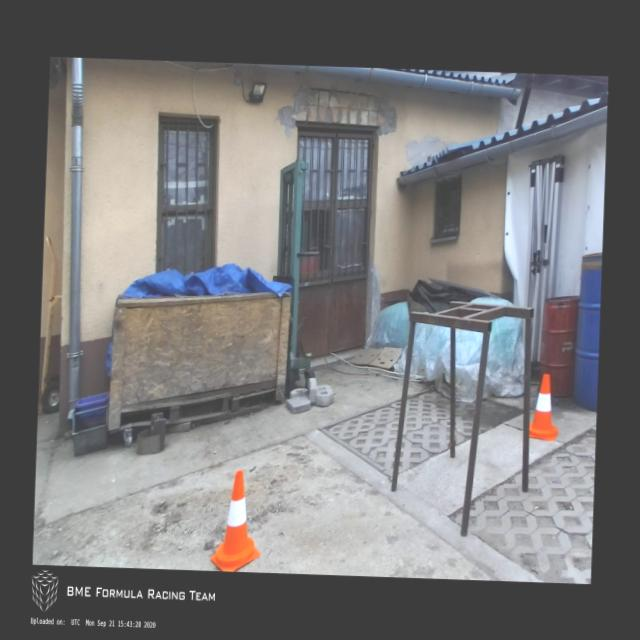orange_cone: (209, 468, 263, 572), (528, 373, 560, 441)
